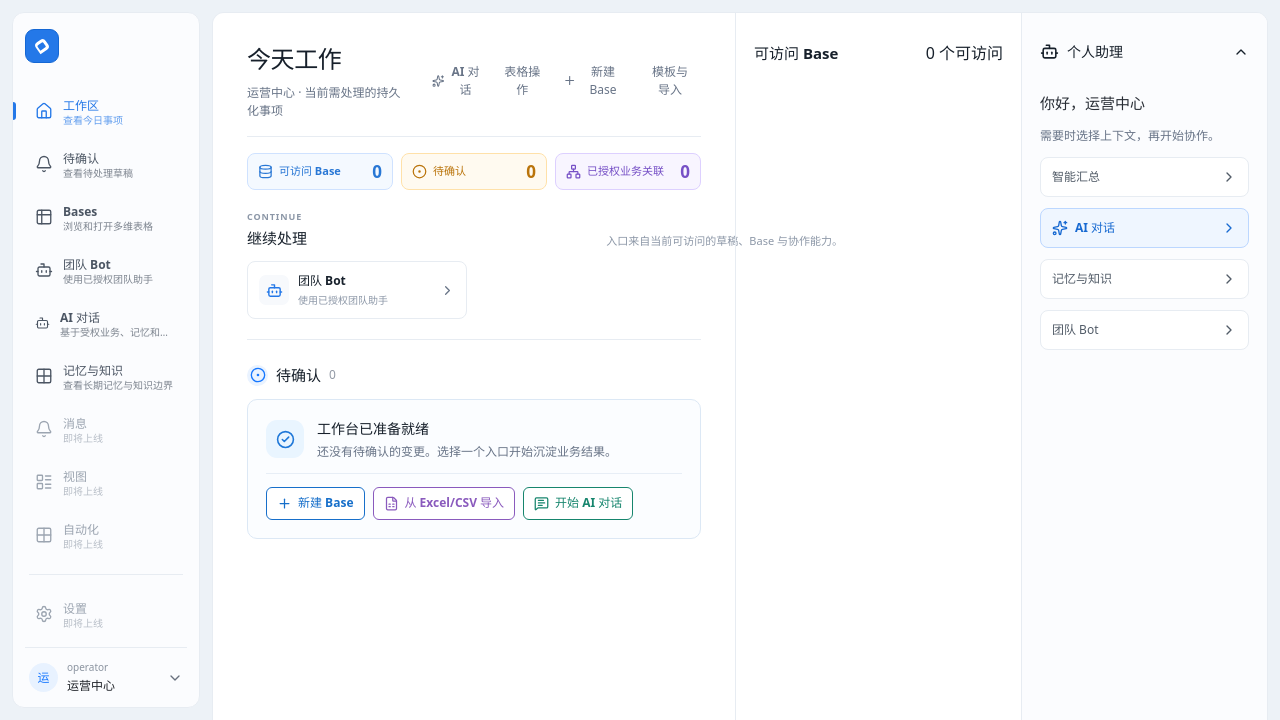
Scenario: creates a Base only after refreshing and resolving the exact authorized receipt resources
The image size is (1280, 720).
Click the button "新建 Base" in the row of "· 当前需处理的持久化事项" at (594, 80), box [556,56,631,106]
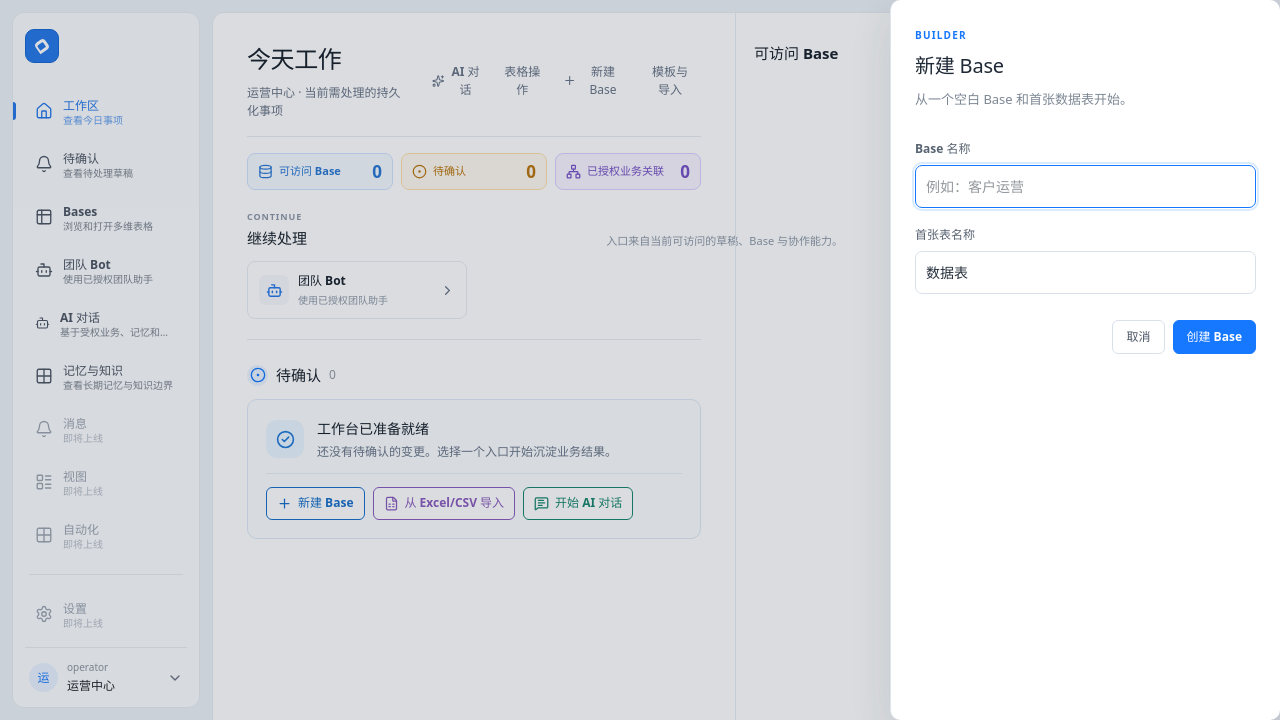
Type "客户运营" into the field labelled "Base 名称" at (1086, 186), box [915,165,1256,208]
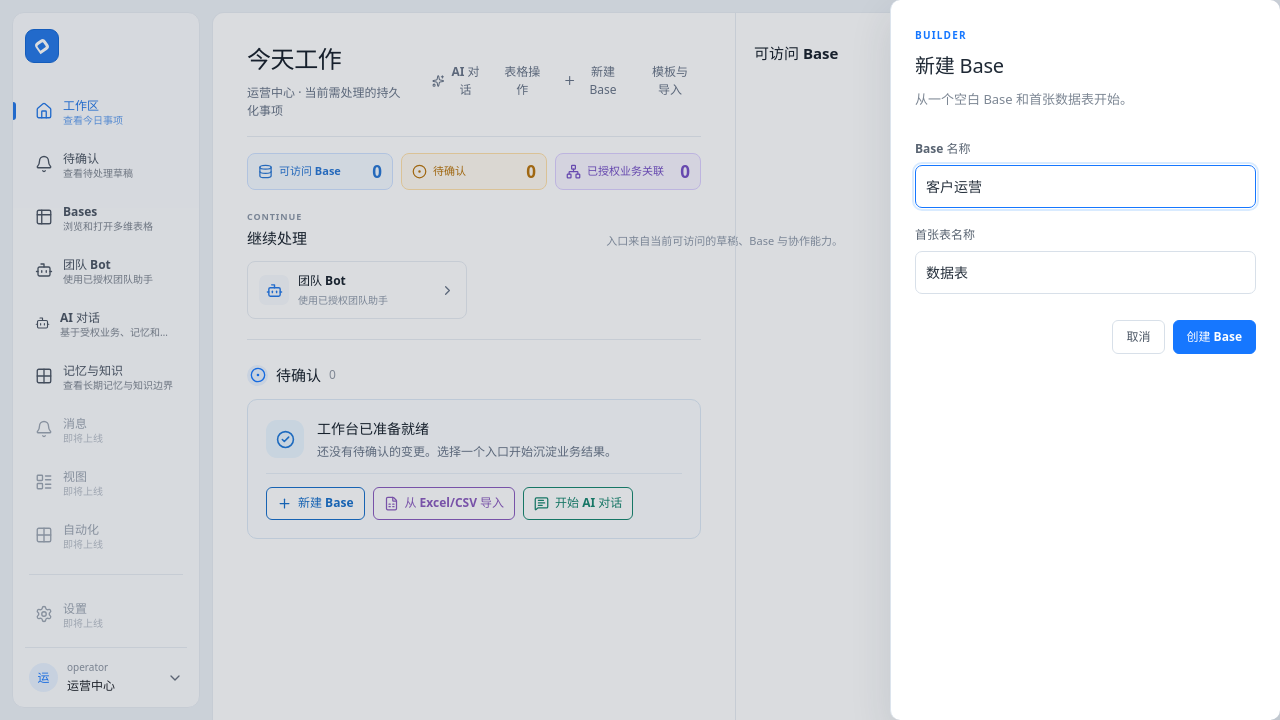
Replace the text in the field labelled "首张表名称" with "客户" at (1086, 272), box [915,251,1256,294]
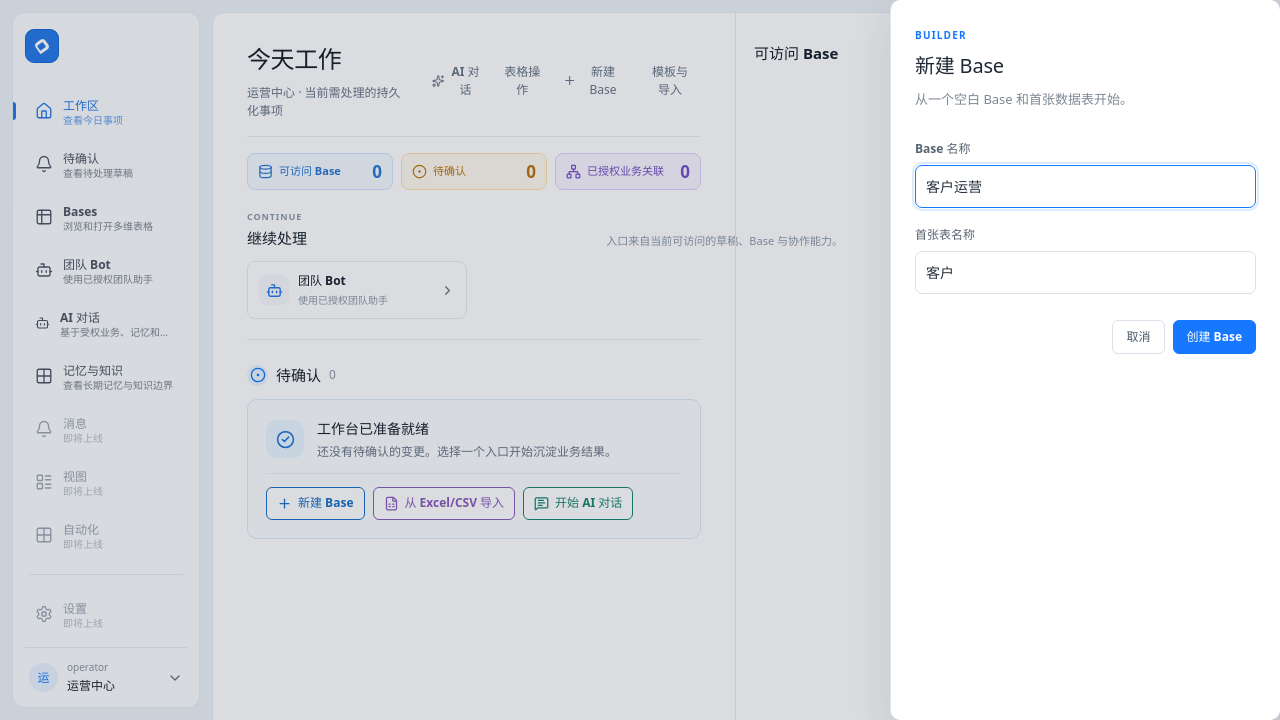
Click the button "创建 Base" at (1214, 337), box [1172,320,1256,354]
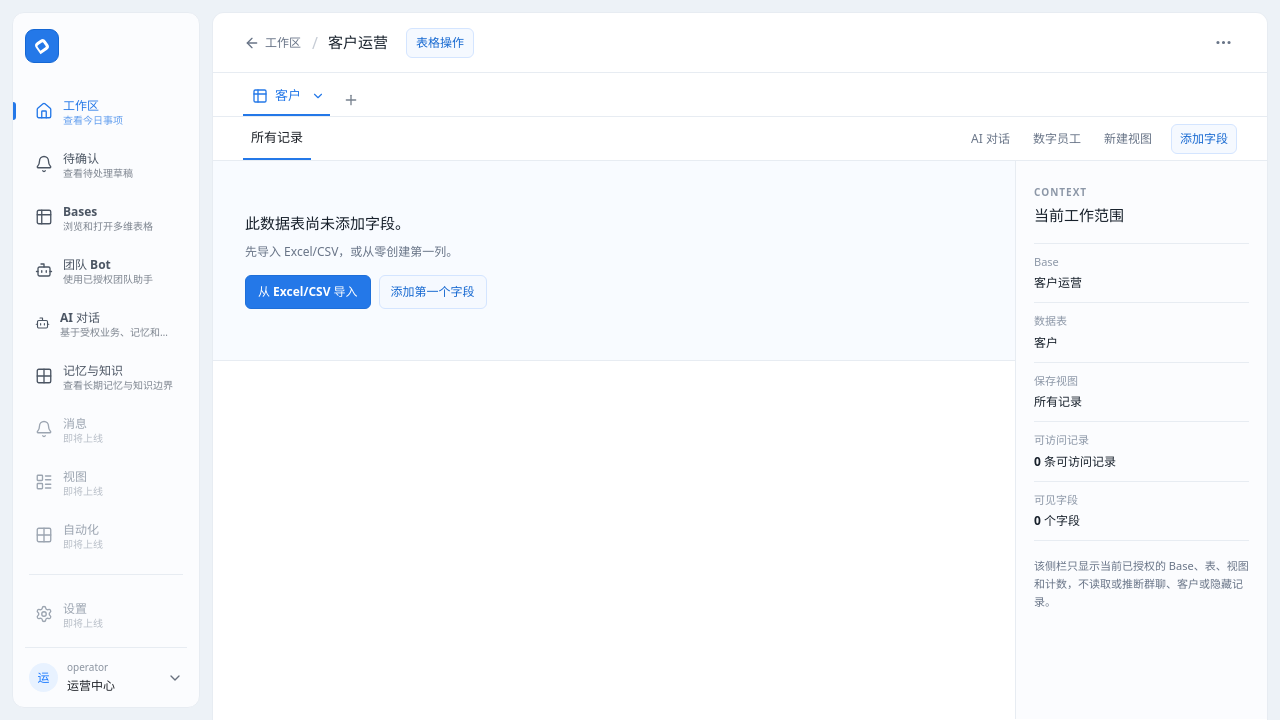
Expected: the heading "客户运营" is shown, [328,31,388,54]
Expected: the tab "客户" is shown, [243,78,305,114]
Expected: the tab "所有记录" is shown, [243,117,311,160]
